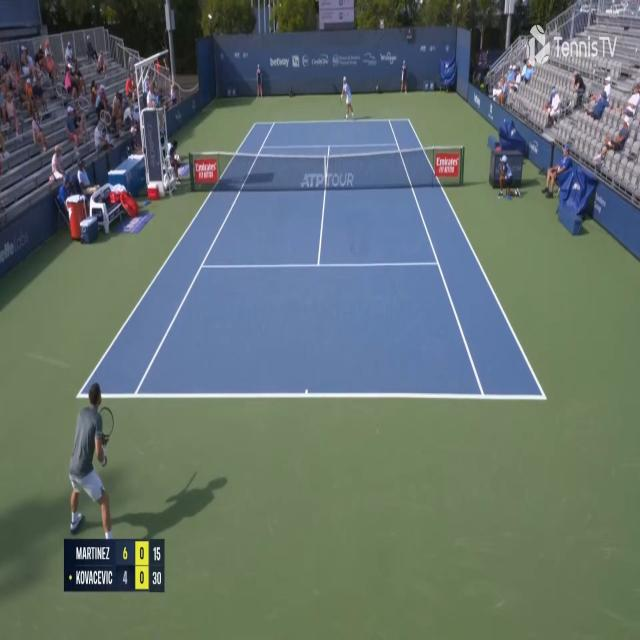tennis-player: (66, 378, 118, 546), (339, 75, 355, 122)
